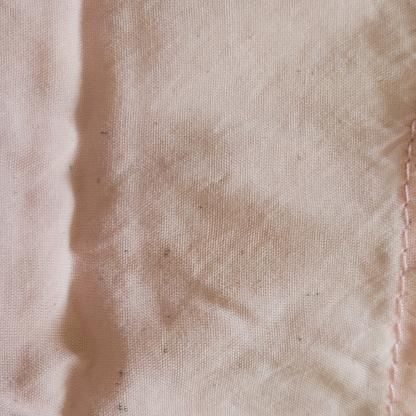spot: (111, 364, 132, 390), (160, 242, 181, 266), (149, 115, 176, 133), (303, 287, 330, 303), (112, 243, 136, 258), (193, 197, 214, 214), (290, 329, 311, 346), (108, 401, 134, 413), (160, 306, 178, 323), (296, 67, 319, 80), (239, 242, 256, 258), (60, 162, 80, 174), (92, 170, 106, 187), (94, 128, 114, 139), (158, 343, 176, 354)
